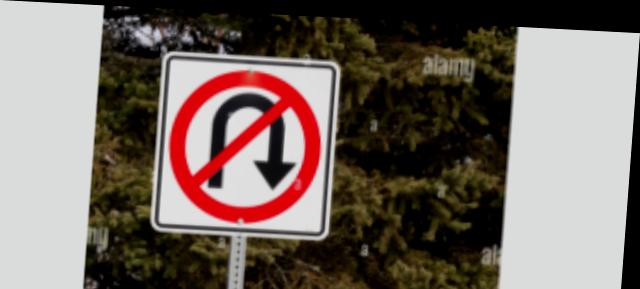not_u_turn_right: (165, 61, 331, 228)
